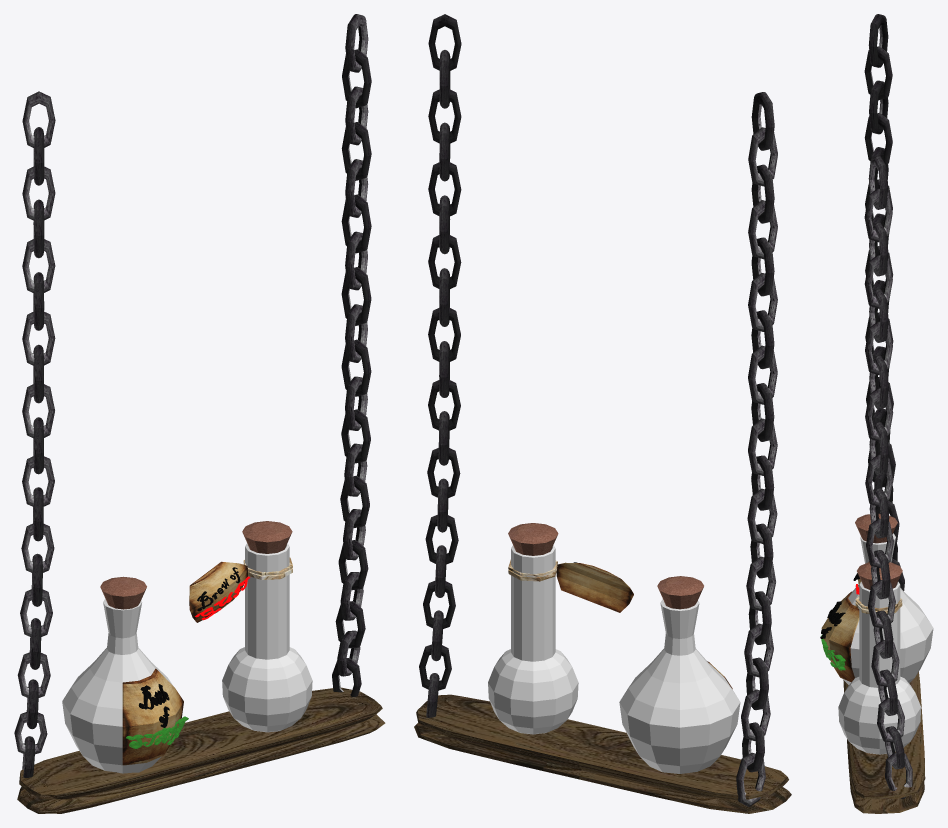
Rendered from MenuFaktiskt.fbx.
3 views of the same model, side by side, from view 1: azimuth 30°, elevation 25°; view 2: azimuth 150°, elevation 25°; view 3: azimuth 270°, elevation 25° (orthographic). The views are drawn at different scales.
Parts seen in each view (by area): view 1: Torus.001, Cube.106, Cube.096, Cube.097, Cube.088, Cube.094, Plane.007, Plane.009, Text.001; view 2: Torus.001, Cube.106, Cube.097, Cube.096, Cube.094, Plane.007, Plane.009; view 3: Torus.001, Cube.096, Cube.106, Cube.097, Cube.088, Plane.007, Plane.009, Text, Text.001, Cube.093.
Boxes of the visible parts, bbox=[...] form: Torus.001: bbox=[14, 14, 371, 777]; Cube.106: bbox=[17, 687, 385, 813]; Cube.096: bbox=[222, 543, 312, 732]; Cube.097: bbox=[62, 598, 172, 773]; Cube.088: bbox=[122, 668, 183, 765]; Cube.094: bbox=[189, 561, 247, 622]; Plane.007: bbox=[242, 521, 292, 553]; Plane.009: bbox=[100, 576, 146, 609]; Text.001: bbox=[126, 716, 188, 748]; Torus.001: bbox=[419, 14, 777, 806]; Cube.106: bbox=[414, 694, 791, 813]; Cube.097: bbox=[619, 599, 740, 773]; Cube.096: bbox=[488, 545, 578, 734]; Cube.094: bbox=[556, 562, 633, 612]; Plane.007: bbox=[508, 523, 558, 555]; Plane.009: bbox=[657, 576, 703, 609]; Torus.001: bbox=[864, 14, 912, 798]; Cube.096: bbox=[838, 581, 921, 754]; Cube.106: bbox=[843, 672, 925, 813]; Cube.097: bbox=[842, 533, 933, 684]; Cube.088: bbox=[821, 591, 859, 682]; Plane.007: bbox=[857, 562, 902, 589]; Plane.009: bbox=[855, 513, 897, 543]; Text: bbox=[820, 601, 845, 638]; Text.001: bbox=[821, 635, 845, 670]; Cube.093: bbox=[855, 596, 902, 613].
Size of the model in its own units: 334 by 638 by 100.
